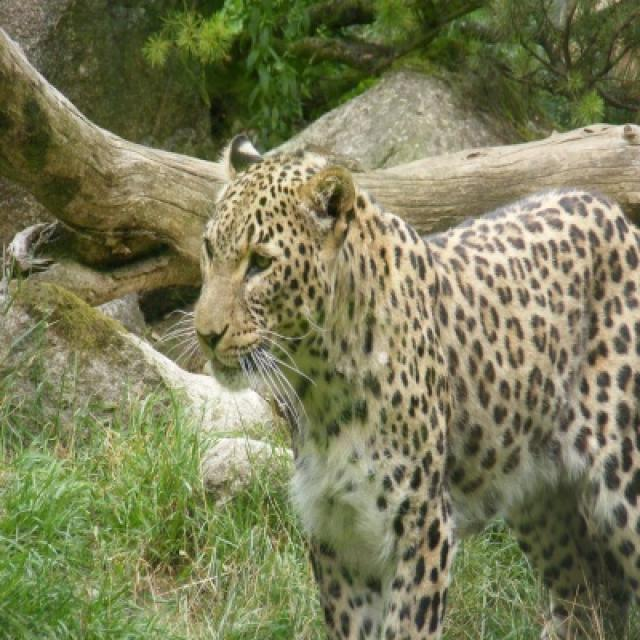Jaguar: (192, 155, 638, 638)
